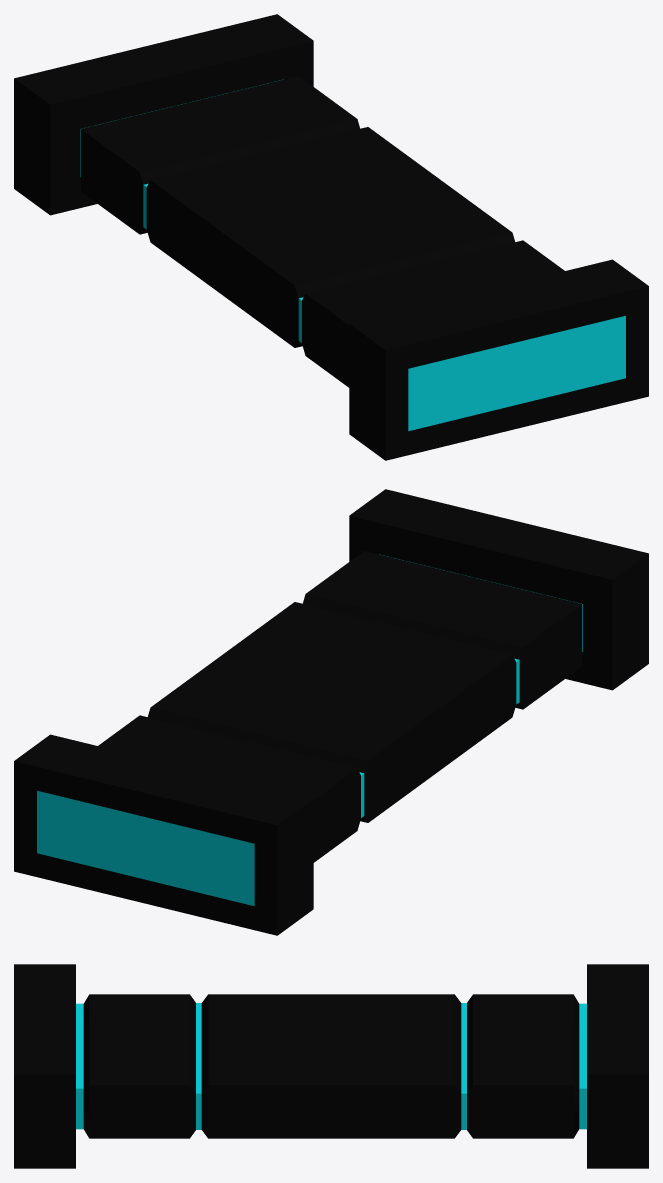
File: Platform_Straight_1.fbx
3 renders of one model, top to bottom at view 1: azimuth 30°, elevation 25°; view 2: azimuth 150°, elevation 25°; view 3: azimuth 270°, elevation 25°, orthographic. The views are drawn at different scales.
Parts seen in each view (by area): view 1: Platform_Straight_1; view 2: Platform_Straight_1; view 3: Platform_Straight_1.
Part boxes in pixels (x1=…): Platform_Straight_1: x1=14, y1=14, x2=648, y2=460; Platform_Straight_1: x1=14, y1=489, x2=648, y2=935; Platform_Straight_1: x1=14, y1=964, x2=648, y2=1168.
Bounding box in the file's own units: 1.21 × 0.4849 × 2.96.
